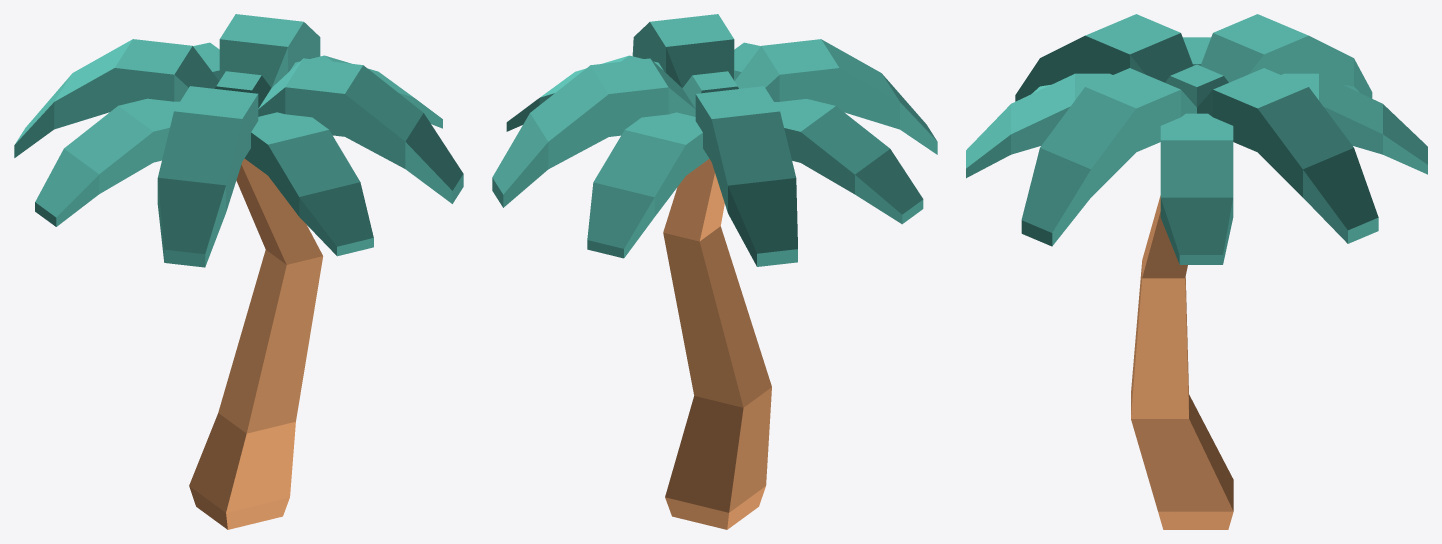
File: palmDetailed_small.obj
3 views of the same model, side by side, from view 1: azimuth 30°, elevation 25°; view 2: azimuth 150°, elevation 25°; view 3: azimuth 270°, elevation 25° (orthographic). The views are drawn at different scales.
Visible parts, largest first — view 1: Group 147, Group 145; view 2: Group 147, Group 145; view 3: Group 147, Group 145.
Boxes of the visible parts, x1,y1,x2,y2 form: Group 147: (14,14,463,267); Group 145: (189,158,323,529); Group 147: (492,14,937,266); Group 145: (663,159,771,529); Group 147: (966,14,1427,264); Group 145: (1131,195,1233,529).
Size of the model in its own units: 7.72 by 8.39 by 7.72.
